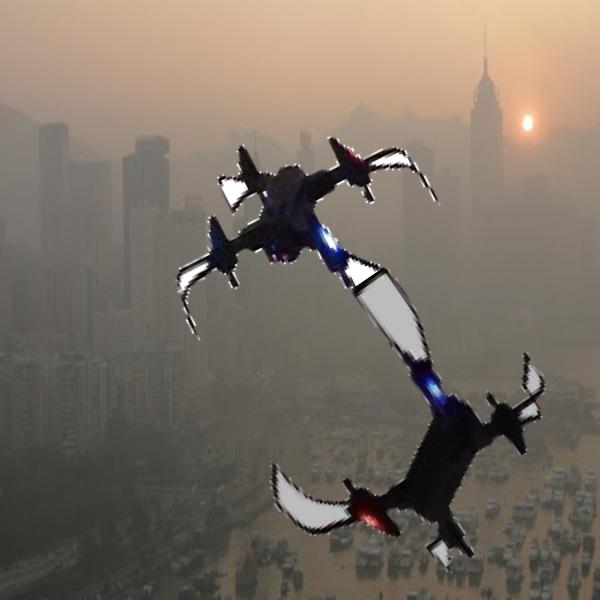drone: (256, 284, 563, 591), (162, 114, 452, 404)
